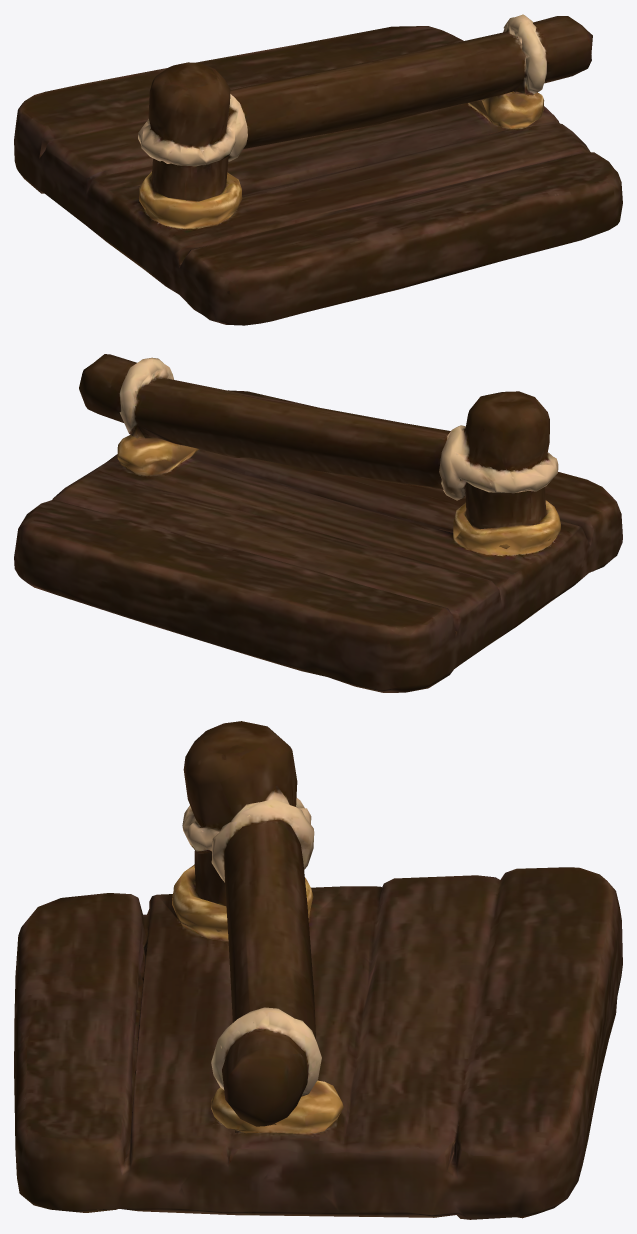
The model's file is ship-tiller.glb.
3 renders of one model, top to bottom at view 1: azimuth 30°, elevation 25°; view 2: azimuth 150°, elevation 25°; view 3: azimuth 270°, elevation 25°, orthographic. The views are drawn at different scales.
Size of the model in its own units: 2 by 0.7992 by 1.73.
Materials: 1 (1 with a texture image).
